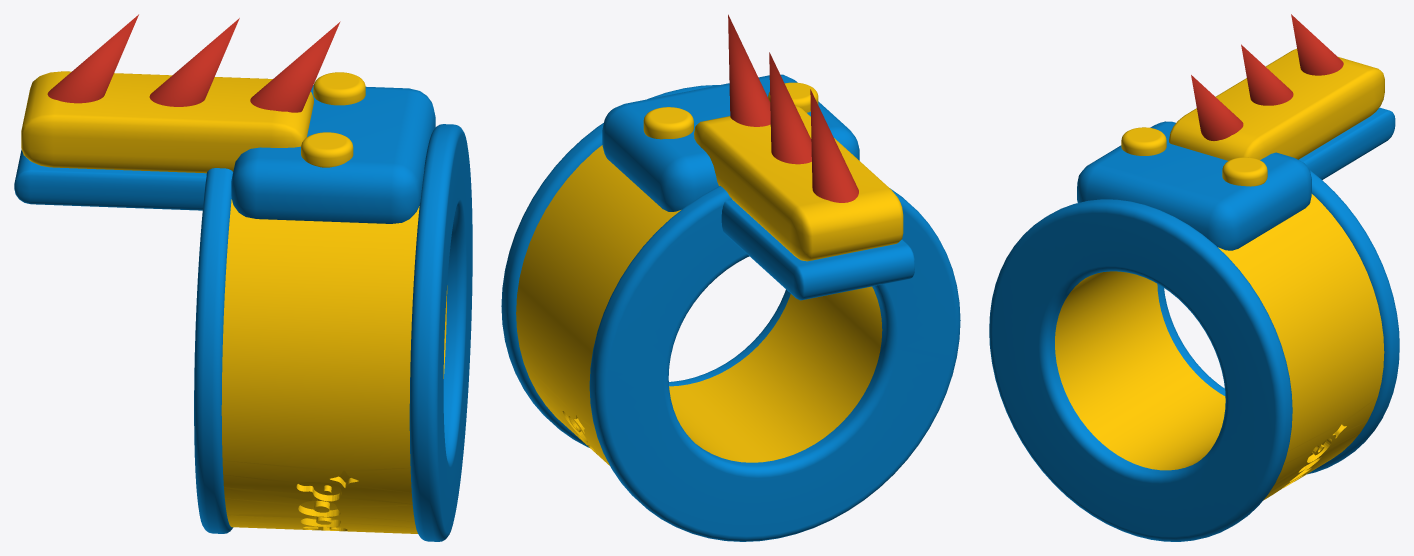
The model's file is bramble.glb.
3 renders of one model, left to right at view 1: azimuth 30°, elevation 25°; view 2: azimuth 150°, elevation 25°; view 3: azimuth 270°, elevation 25°, orthographic. The views are drawn at different scales.
Parts seen in each view (by area): view 1: bramble-part-001, bramble-part-002, bramble-part-008, bramble-part-004, bramble-part-003, bramble-part-007, bramble-part-009, bramble-part-011, bramble-part-010, bramble-part-005, bramble-part-006; view 2: bramble-part-003, bramble-part-001, bramble-part-008, bramble-part-004, bramble-part-007, bramble-part-002, bramble-part-011, bramble-part-009, bramble-part-010, bramble-part-006, bramble-part-005; view 3: bramble-part-002, bramble-part-001, bramble-part-004, bramble-part-008, bramble-part-003, bramble-part-007, bramble-part-009, bramble-part-010, bramble-part-011, bramble-part-006, bramble-part-005.
Part boxes in pixels (left/top/right/bottom): bramble-part-001: left=221, top=199, right=447, bottom=533; bramble-part-002: left=409, top=124, right=472, bottom=541; bramble-part-008: left=21, top=71, right=313, bottom=173; bramble-part-004: left=231, top=85, right=435, bottom=223; bramble-part-003: left=194, top=168, right=233, bottom=533; bramble-part-007: left=14, top=149, right=206, bottom=210; bramble-part-009: left=250, top=21, right=340, bottom=112; bramble-part-011: left=47, top=14, right=138, bottom=103; bramble-part-010: left=149, top=18, right=239, bottom=106; bramble-part-005: left=301, top=132, right=353, bottom=167; bramble-part-006: left=313, top=72, right=365, bottom=105; bramble-part-003: left=589, top=186, right=960, bottom=541; bramble-part-001: left=516, top=145, right=882, bottom=465; bramble-part-008: left=694, top=105, right=903, bottom=261; bramble-part-004: left=602, top=74, right=859, bottom=211; bramble-part-007: left=721, top=200, right=914, bottom=300; bramble-part-002: left=501, top=85, right=790, bottom=447; bramble-part-011: left=810, top=89, right=858, bottom=202; bramble-part-009: left=728, top=14, right=770, bottom=126; bramble-part-010: left=769, top=52, right=811, bottom=164; bramble-part-006: left=643, top=107, right=693, bottom=139; bramble-part-005: left=768, top=82, right=818, bottom=112; bramble-part-002: left=989, top=199, right=1292, bottom=541; bramble-part-001: left=1055, top=194, right=1384, bottom=500; bramble-part-004: left=1077, top=121, right=1311, bottom=250; bramble-part-008: left=1169, top=48, right=1384, bottom=160; bramble-part-003: left=1157, top=170, right=1399, bottom=474; bramble-part-007: left=1299, top=107, right=1395, bottom=179; bramble-part-009: left=1191, top=75, right=1243, bottom=140; bramble-part-010: left=1241, top=44, right=1293, bottom=105; bramble-part-011: left=1291, top=14, right=1343, bottom=75; bramble-part-006: left=1222, top=157, right=1267, bottom=186; bramble-part-005: left=1121, top=127, right=1166, bottom=155.
Size of the model in its own units: 2.79 by 3 by 2.6.
